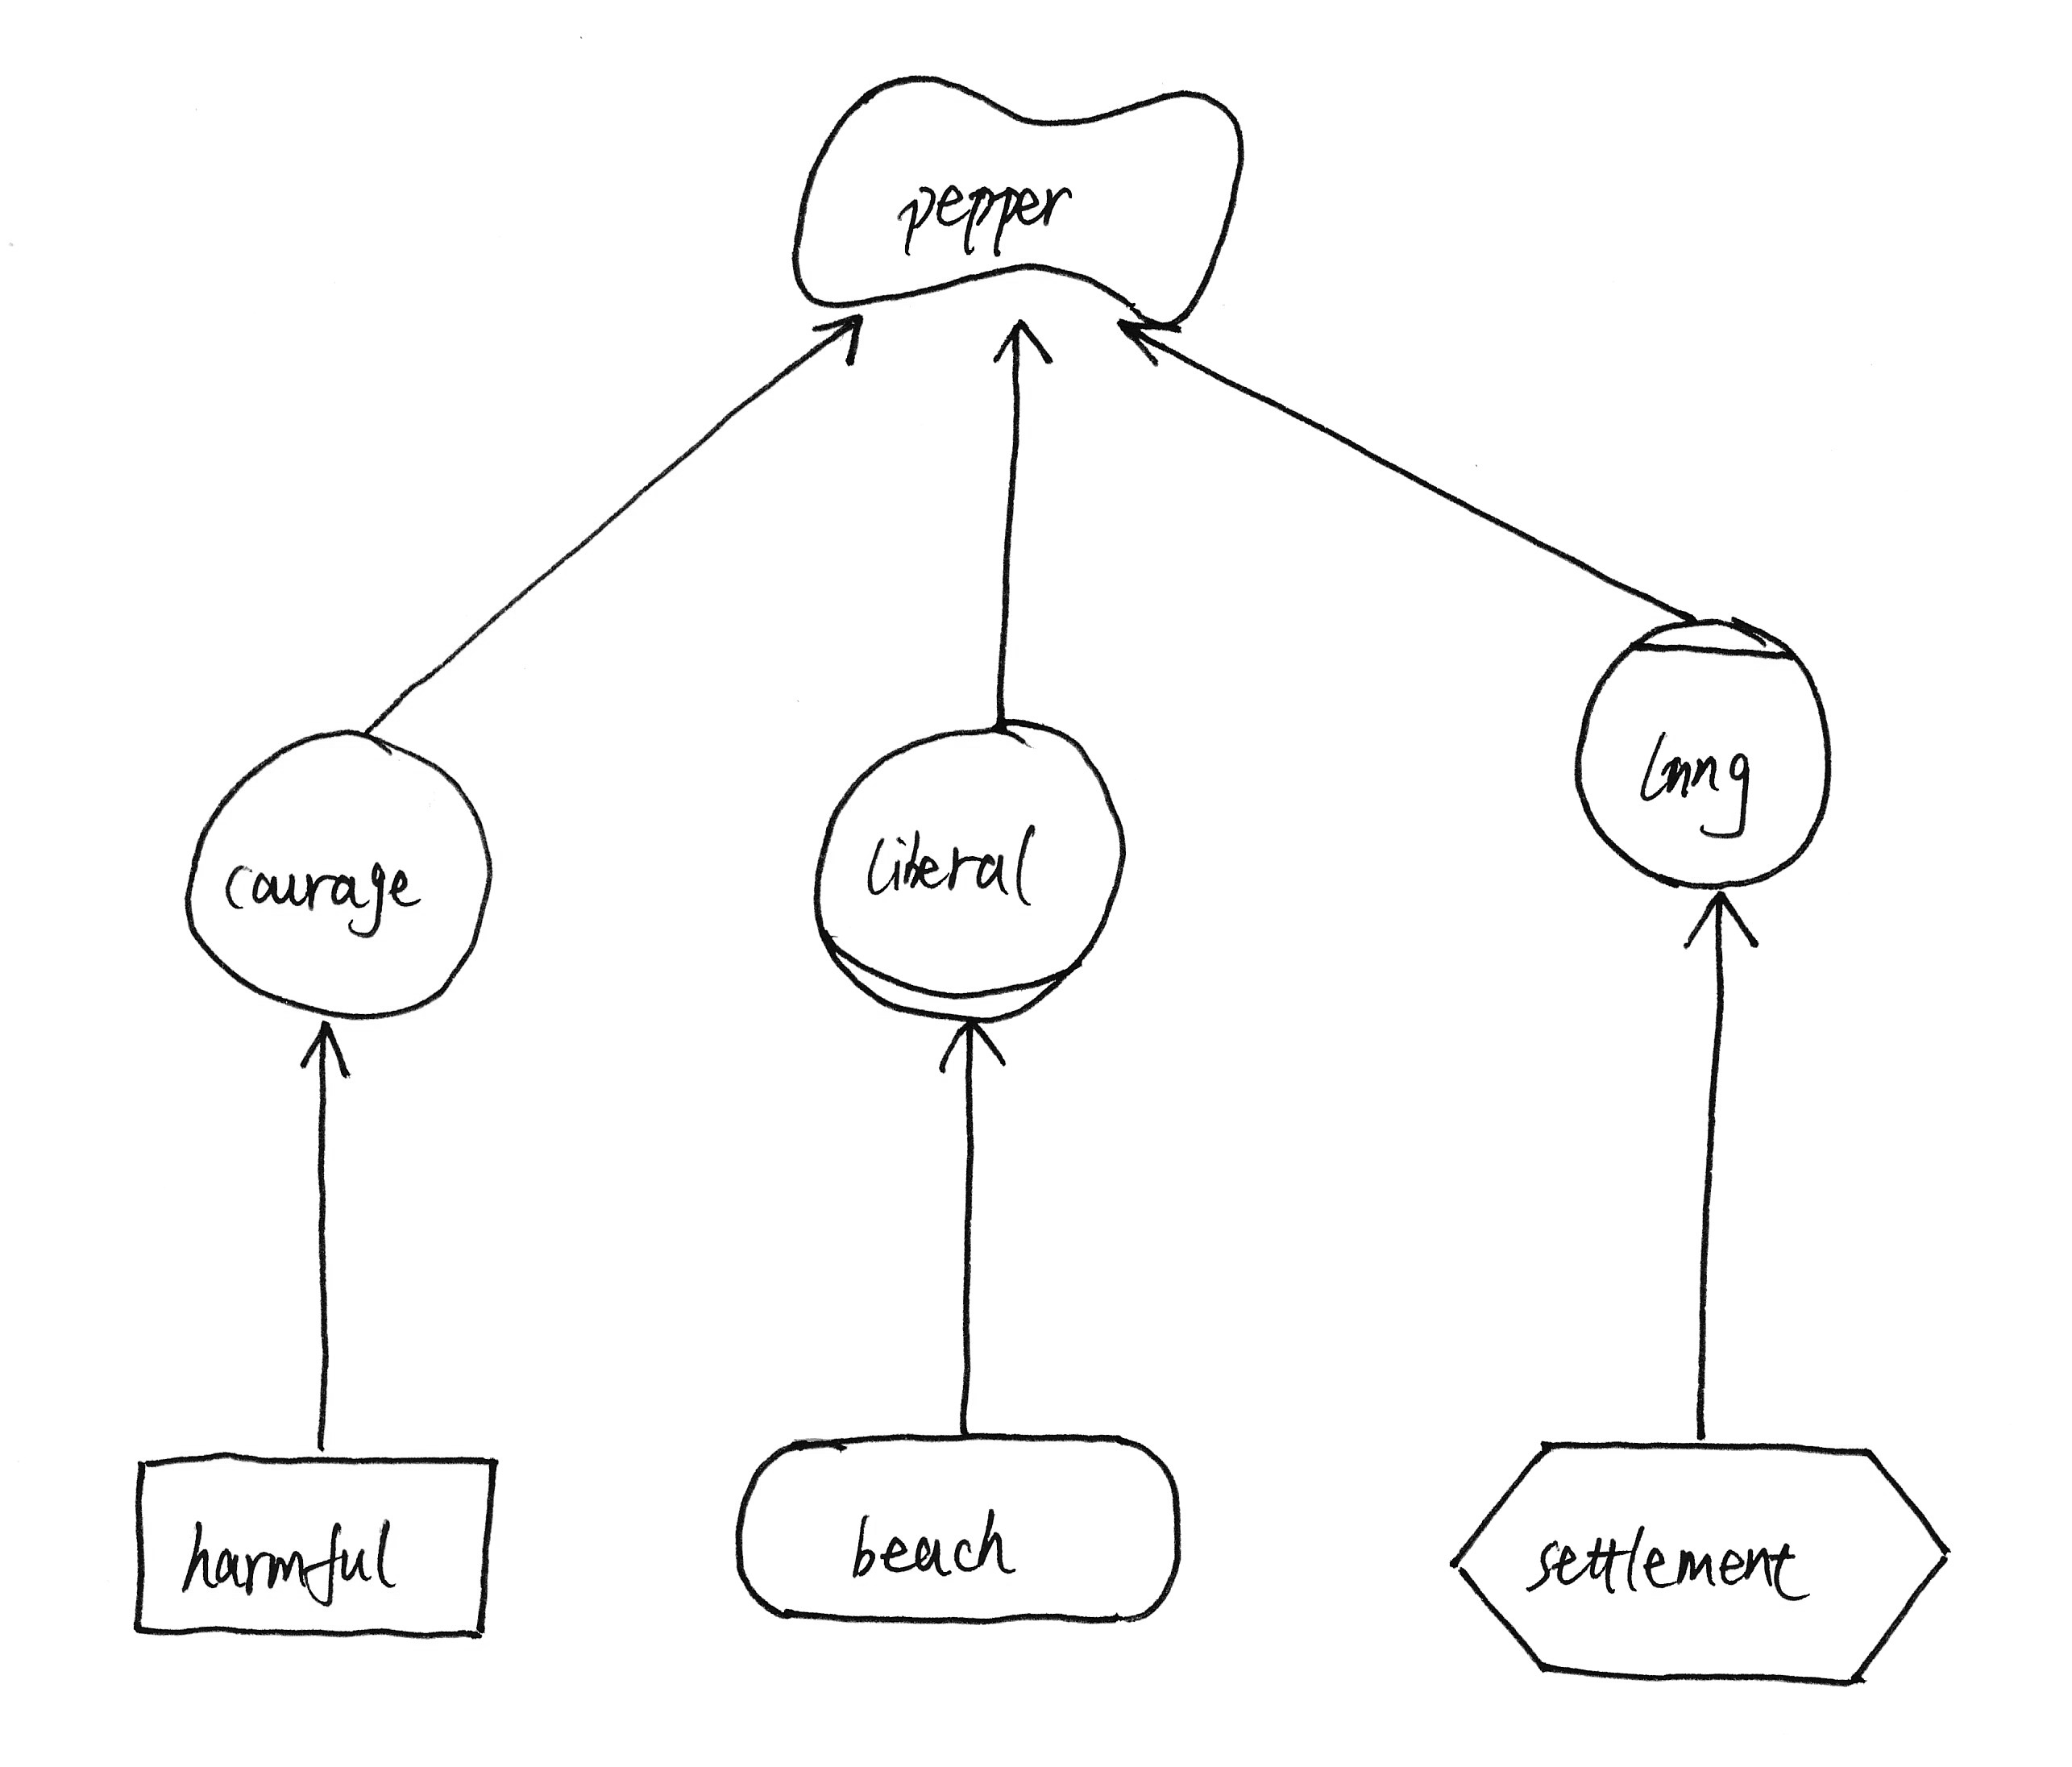actor: (170, 715, 505, 1033)
agent: (1557, 603, 1851, 899)
arrow: (1665, 882, 1772, 964), (922, 1017, 1032, 1089), (794, 307, 882, 382), (293, 1011, 361, 1094), (989, 312, 1061, 384), (1108, 312, 1194, 372)
goal: (720, 1413, 1194, 1641)
quality: (775, 51, 1264, 351)
resource: (110, 1434, 514, 1651)
role: (796, 696, 1134, 1034)
task: (1430, 1422, 1974, 1707)
